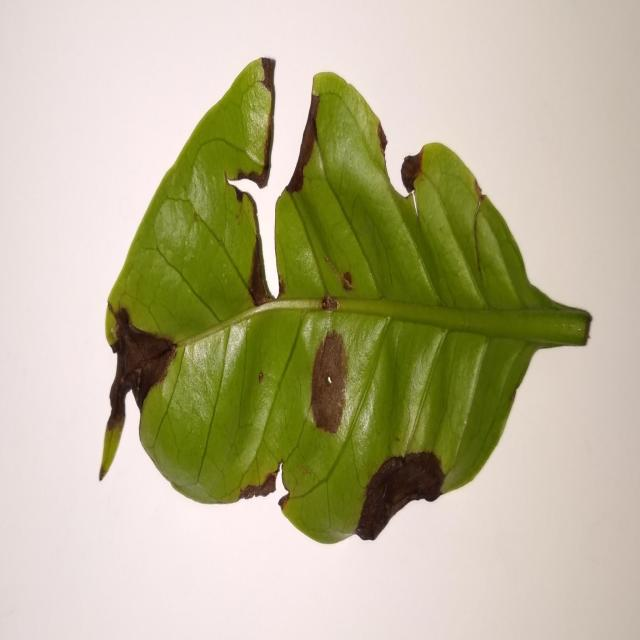Enfermedad-Antracnosis: (98, 58, 593, 548)
